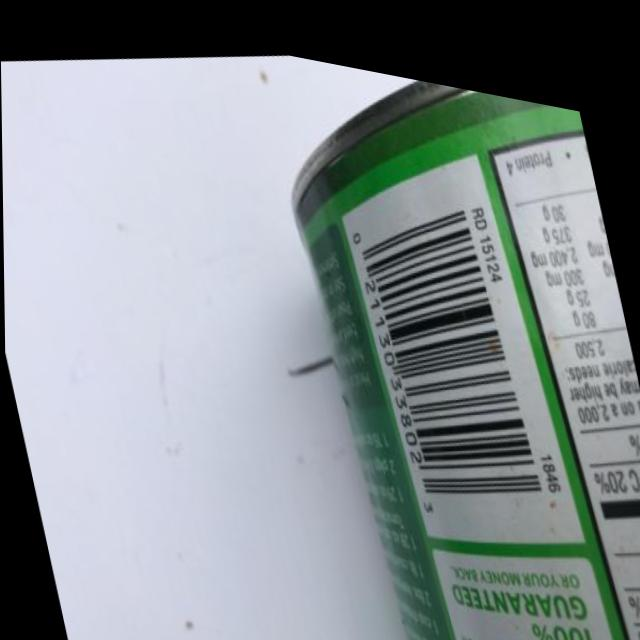metal: (200, 30, 640, 640)
